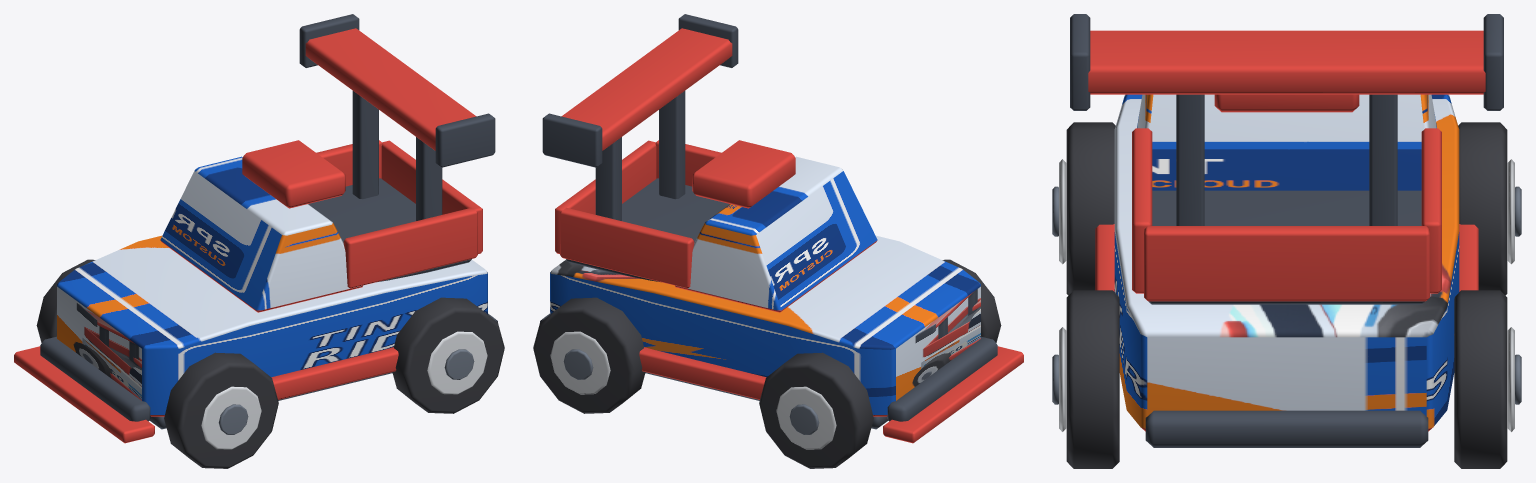
3 renders of one model, left to right at view 1: azimuth 30°, elevation 25°; view 2: azimuth 150°, elevation 25°; view 3: azimuth 270°, elevation 25°, orthographic. The views are drawn at different scales.
Visible parts, largest first — view 1: TC-03_connected_shell, TC-03_cabin, rear airfoil, Tire, Tire.002, cargo side, custom equipment, cargo floor, custom chin, custom side guard, front bumper, wing support.001 (+10 smaller); view 2: TC-03_connected_shell, TC-03_cabin, rear airfoil, Tire.001, Tire.003, cargo side.001, custom equipment, cargo floor, custom chin, custom side guard.001, front bumper, wing support (+10 smaller); view 3: TC-03_connected_shell, rear airfoil, cargo tail, TC-03_cabin, rear bumper, Tire.002, Tire.003, cargo floor, Tire, Tire.001, wing support, wing support.001 (+11 smaller).
Part boxes in pixels (bbox=[...]): TC-03_connected_shell: bbox=[57, 235, 487, 416]; TC-03_cabin: bbox=[160, 156, 362, 312]; rear airfoil: bbox=[305, 28, 476, 150]; Tire: bbox=[164, 352, 278, 468]; Tire.002: bbox=[392, 297, 504, 413]; cargo side: bbox=[343, 207, 477, 288]; custom equipment: bbox=[242, 140, 345, 208]; cargo floor: bbox=[308, 178, 471, 281]; custom chin: bbox=[14, 346, 154, 443]; custom side guard: bbox=[271, 347, 398, 399]; front bumper: bbox=[40, 336, 150, 421]; wing support.001: bbox=[352, 91, 378, 199]; TC-03_connected_shell: bbox=[550, 235, 980, 416]; TC-03_cabin: bbox=[675, 156, 877, 312]; rear airfoil: bbox=[561, 28, 732, 150]; Tire.001: bbox=[759, 352, 873, 468]; Tire.003: bbox=[533, 297, 645, 413]; cargo side.001: bbox=[560, 207, 694, 288]; custom equipment: bbox=[692, 140, 795, 208]; cargo floor: bbox=[566, 178, 729, 281]; custom chin: bbox=[883, 346, 1023, 443]; custom side guard.001: bbox=[639, 347, 766, 399]; front bumper: bbox=[887, 336, 997, 421]; wing support: bbox=[659, 91, 685, 199]; TC-03_connected_shell: bbox=[1114, 94, 1459, 431]; rear airfoil: bbox=[1088, 30, 1485, 94]; cargo tail: bbox=[1144, 226, 1429, 301]; TC-03_cabin: bbox=[1137, 94, 1436, 190]; rear bumper: bbox=[1145, 410, 1428, 447]; Tire.002: bbox=[1066, 290, 1119, 468]; Tire.003: bbox=[1454, 290, 1507, 468]; cargo floor: bbox=[1148, 190, 1425, 304]; Tire: bbox=[1066, 122, 1115, 295]; Tire.001: bbox=[1458, 122, 1507, 295]; wing support: bbox=[1176, 94, 1204, 225]; wing support.001: bbox=[1369, 94, 1397, 225].
Bounding box in the file's own units: 332 × 237 × 230.
